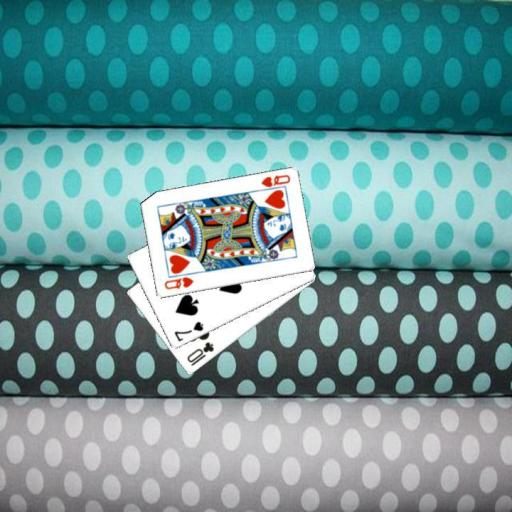10C: (184, 339, 216, 368)
7S: (171, 319, 205, 344)
QH: (255, 172, 292, 194), (161, 274, 195, 291)
